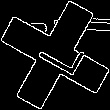L_NW: (26, 29, 84, 81)
